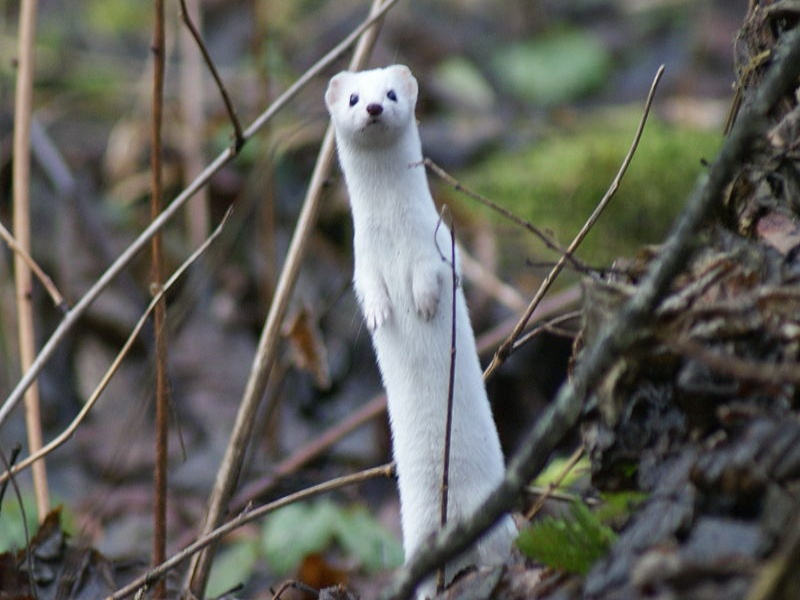minkish: (312, 60, 526, 600)
